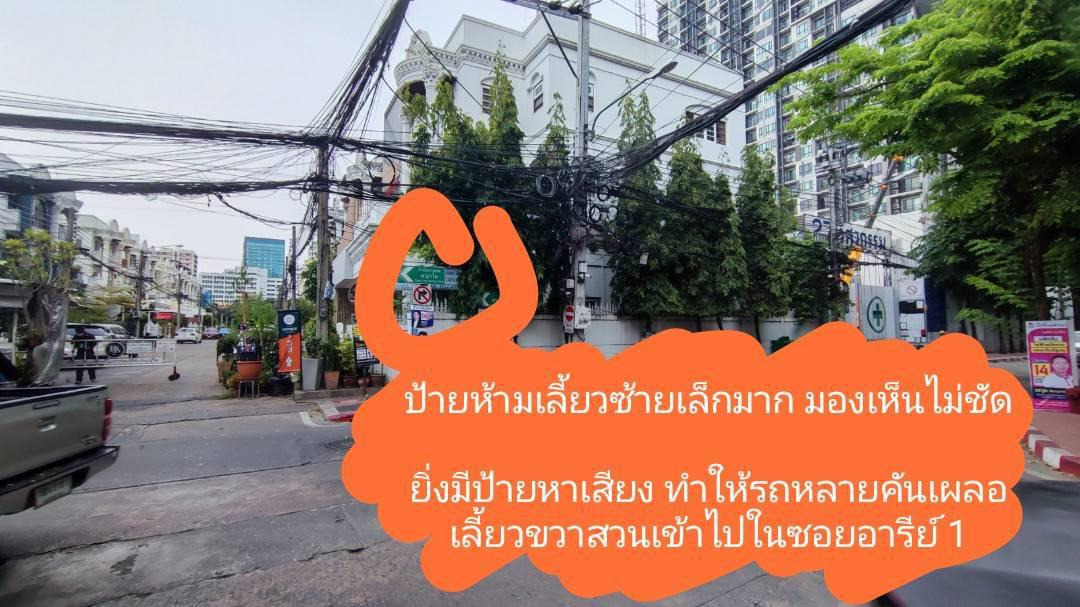Banner: (1027, 320, 1078, 411), (410, 304, 436, 336)
